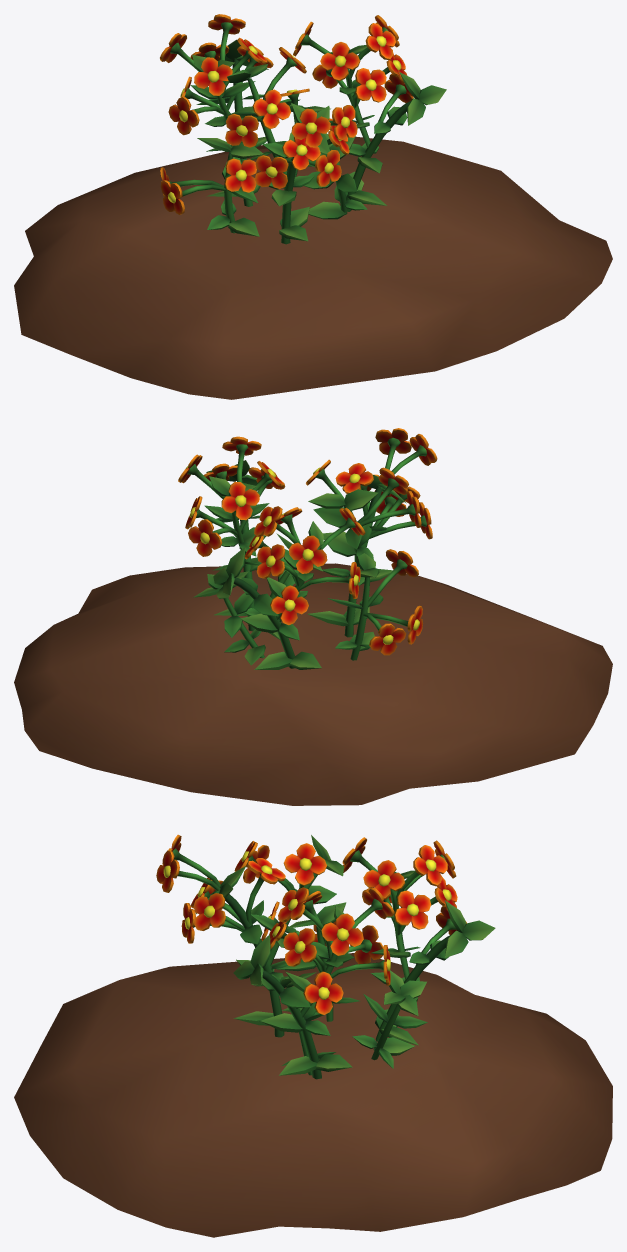
Rendered from SM_PlantSoil_Gaillardia_Lv3.fbx.
3 views of the same model, one above another, from view 1: azimuth 30°, elevation 25°; view 2: azimuth 150°, elevation 25°; view 3: azimuth 270°, elevation 25° (orthographic). The views are drawn at different scales.
Visible parts, largest first — view 1: SM_PlantSoil_Gaillardia_Lv3; view 2: SM_PlantSoil_Gaillardia_Lv3; view 3: SM_PlantSoil_Gaillardia_Lv3.
Part boxes in pixels (<box>): SM_PlantSoil_Gaillardia_Lv3: <box>14,14,612,399</box>; SM_PlantSoil_Gaillardia_Lv3: <box>14,428,612,805</box>; SM_PlantSoil_Gaillardia_Lv3: <box>14,834,612,1237</box>.
Size of the model in its own units: 118 by 48.91 by 106.
